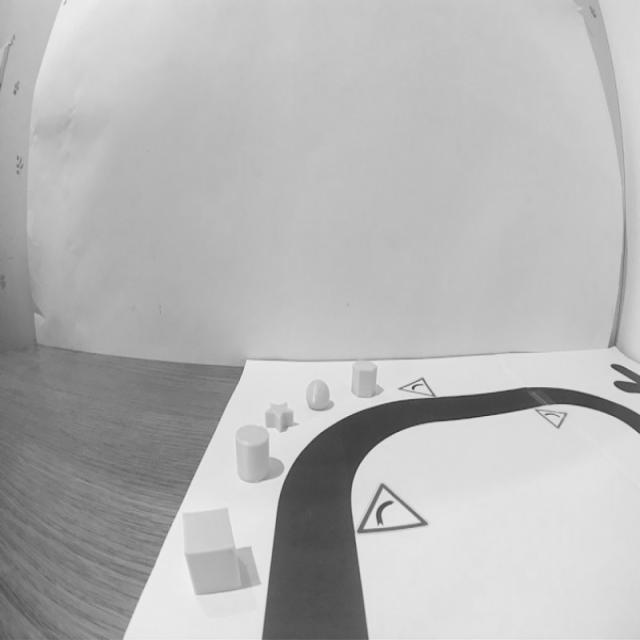ball: (302, 374, 332, 415)
cube: (178, 506, 247, 598)
cylinder: (232, 420, 272, 489)
hexagon: (350, 357, 380, 402)
laneRight: (270, 428, 364, 546)
lineStraight: (255, 535, 378, 640)
rightTurn: (344, 471, 433, 546)
star: (262, 396, 298, 435)
